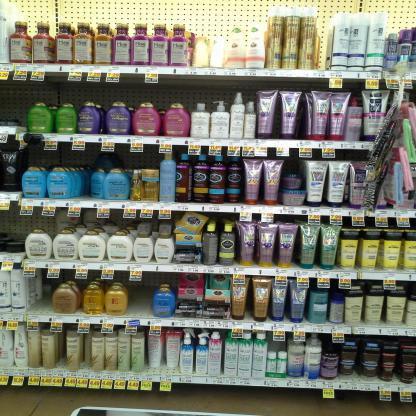Void: (128, 274, 151, 312), (24, 275, 50, 308), (6, 210, 26, 242), (83, 170, 103, 197)
